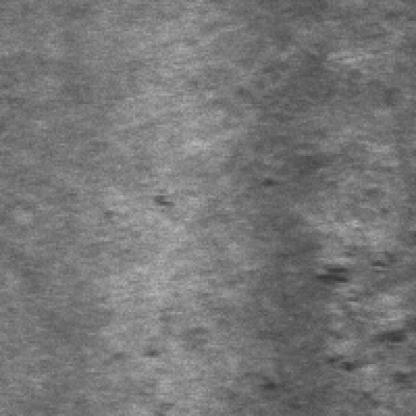rolled-in_scale: (302, 233, 414, 397)
